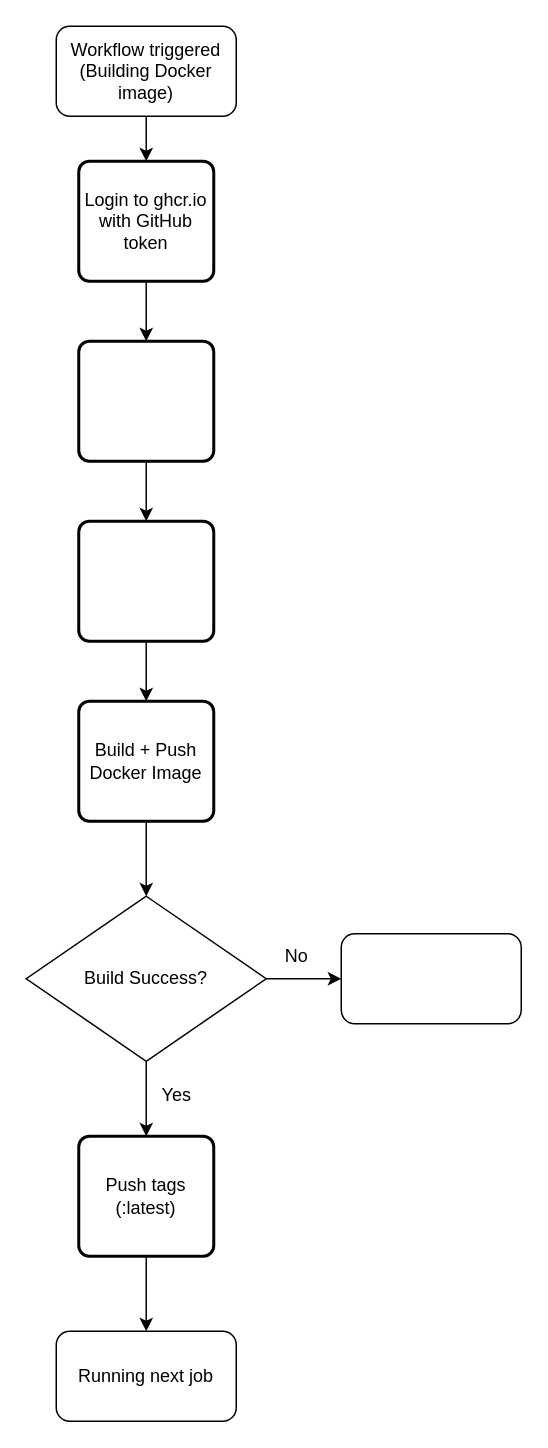
Some shapes in this 548 by 1448 pixel diagram are drawn without their labels. The shapes that lost their labels are listed below. From the top down, each one's box as (x1, y1, x2, y2) in pixels, then its label:
(76, 339, 214, 462): Set up QEMU
(76, 519, 214, 642): Set up Buildx
(340, 932, 521, 1024): FAIL (Stop)
